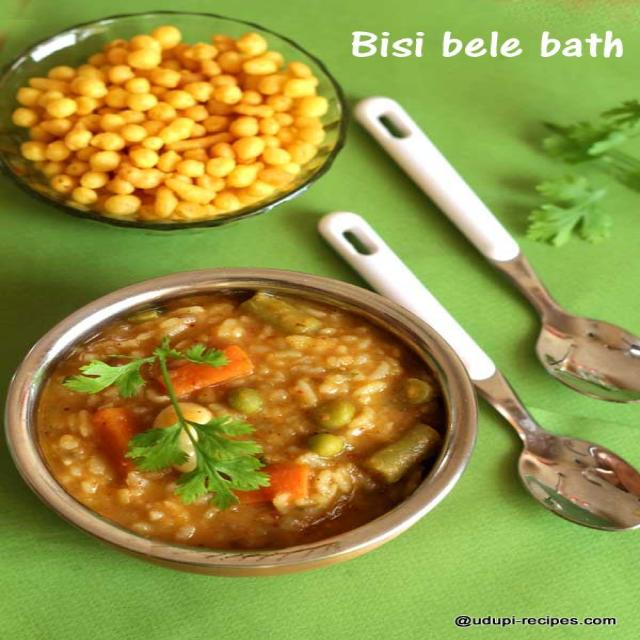bisibele bath: (2, 261, 490, 583)
